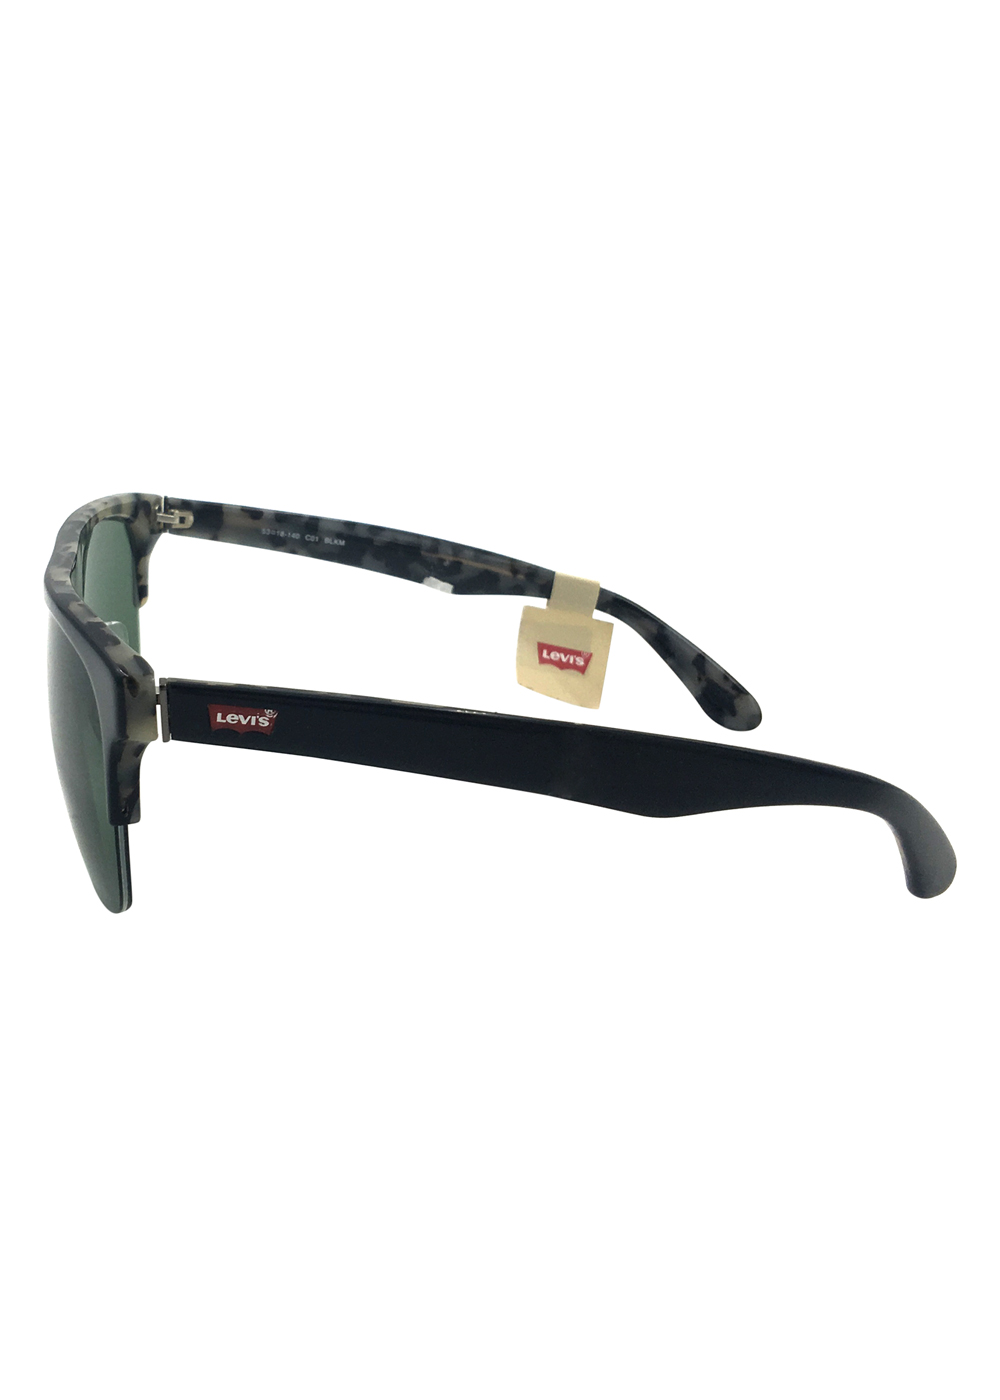Levi's: (200, 694, 279, 740), (526, 634, 602, 677)
